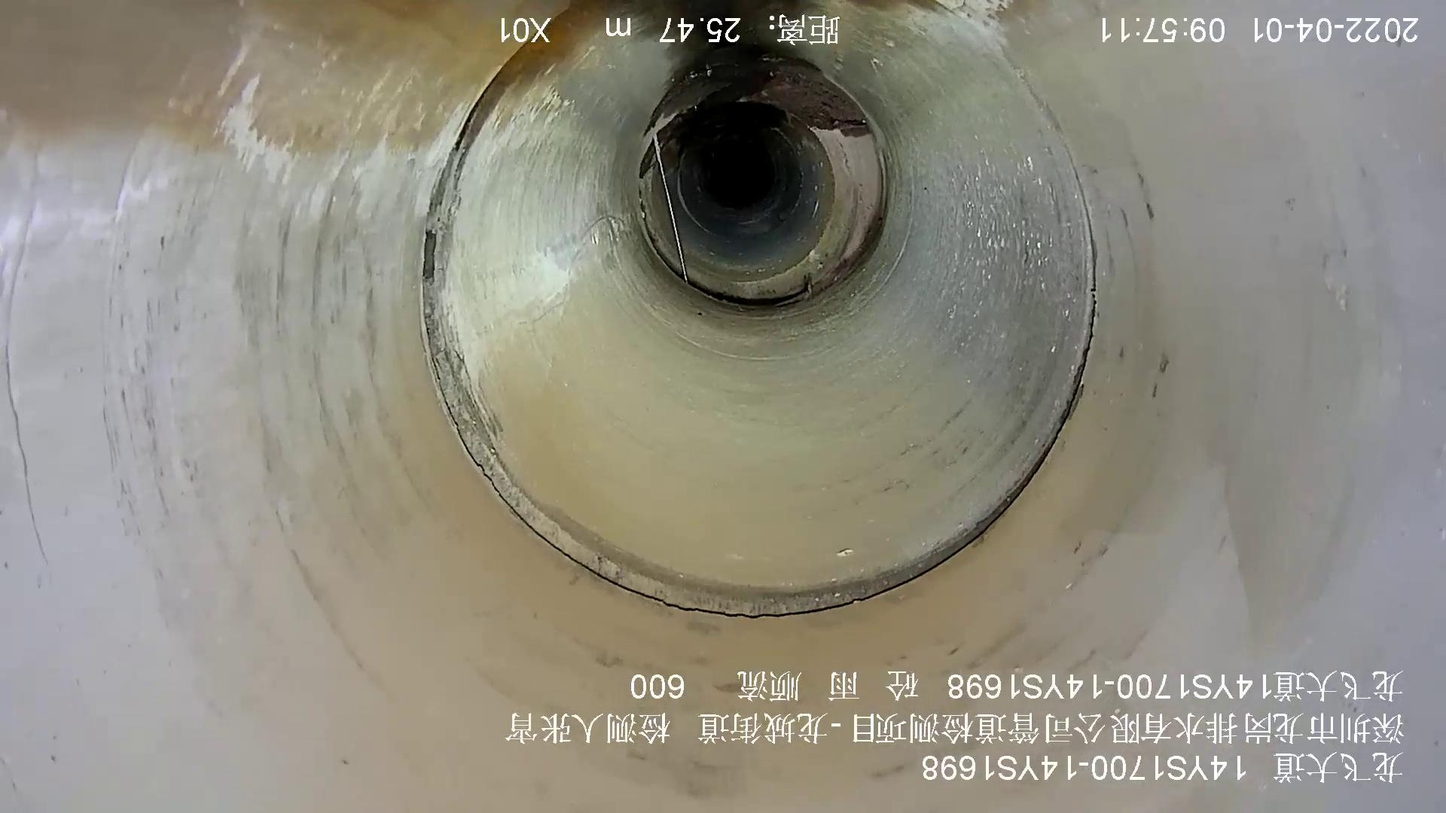CJ: (649, 47, 872, 142)
CKTJ: (422, 8, 1097, 619)
YWCR: (651, 123, 696, 286)
